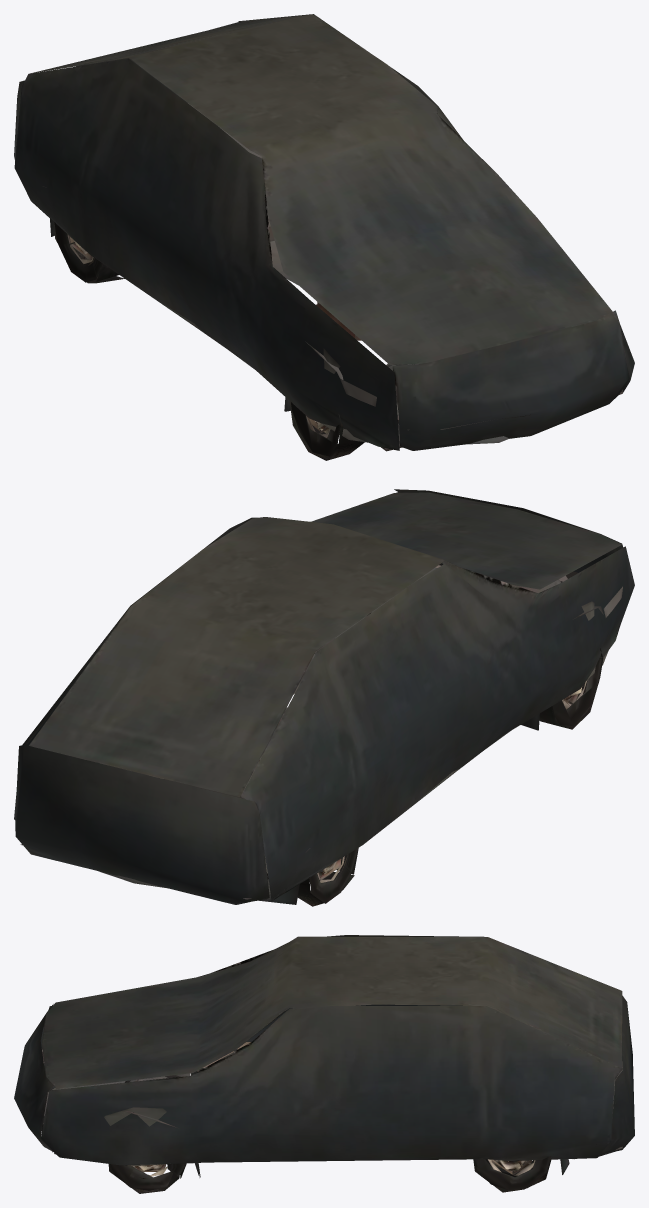
Rendered from covered-car.glb.
3 renders of one model, top to bottom at view 1: azimuth 30°, elevation 25°; view 2: azimuth 150°, elevation 25°; view 3: azimuth 270°, elevation 25°, orthographic. The views are drawn at different scales.
Parts seen in each view (by area): view 1: covered_car_wheel_01; view 2: covered_car_wheel_01; view 3: covered_car_wheel_01.
Boxes of the visible parts, bbox=[...] form: covered_car_wheel_01: bbox=[14, 14, 634, 460]; covered_car_wheel_01: bbox=[14, 489, 634, 906]; covered_car_wheel_01: bbox=[14, 935, 634, 1193].
Bounding box in the file's own units: 1.78 × 1.39 × 4.39.
2 materials, 2 textured.
